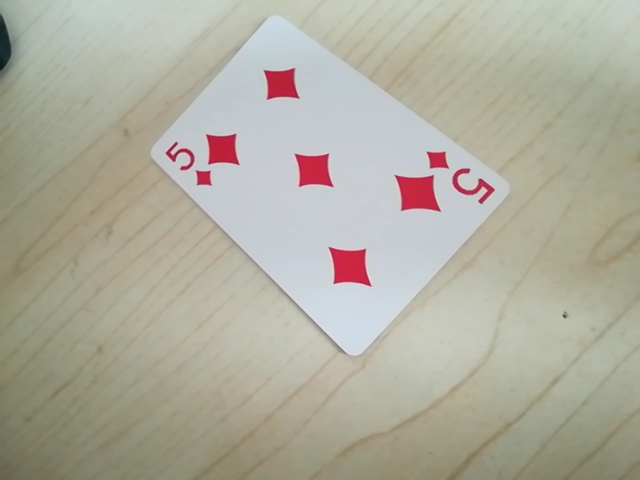fk 5: (428, 149, 500, 201), (157, 140, 217, 188)
